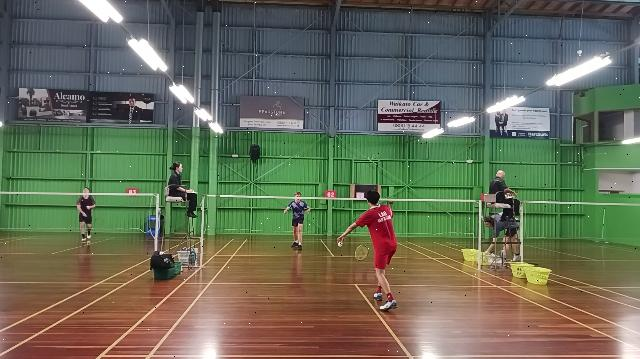Shuttlecock: (334, 241, 344, 249)
